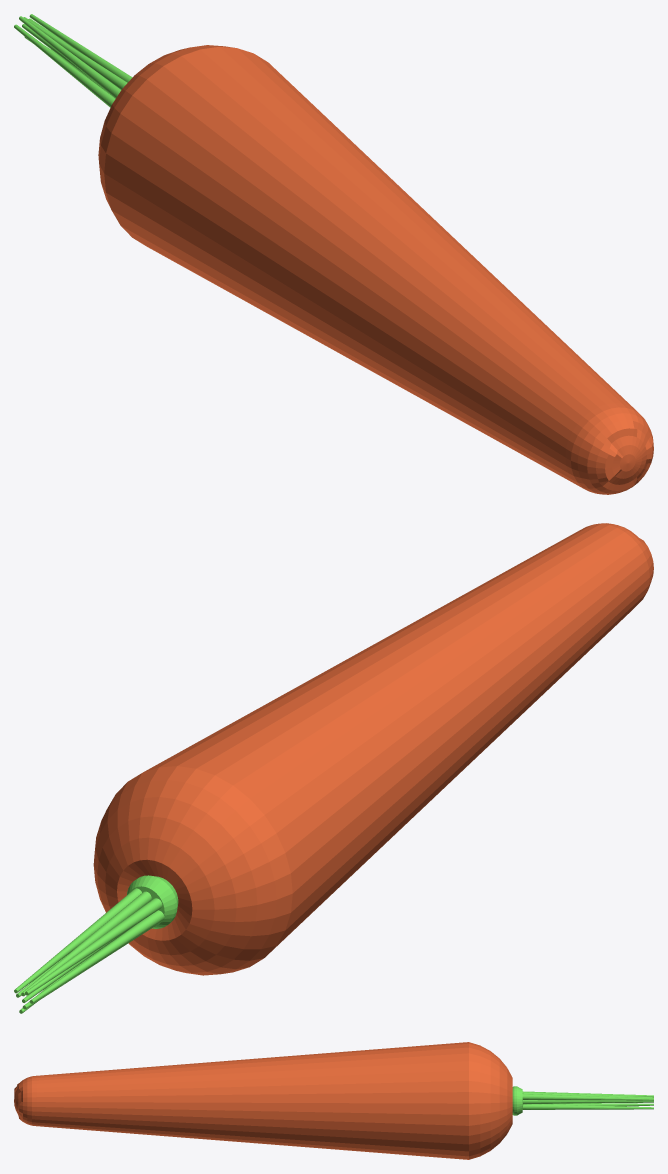
Rendered from carrot.fbx.
3 views of the same model, one above another, from view 1: azimuth 30°, elevation 25°; view 2: azimuth 150°, elevation 25°; view 3: azimuth 270°, elevation 25° (orthographic). The views are drawn at different scales.
Parts seen in each view (by area): view 1: Cylinder.001; view 2: Cylinder.001; view 3: Cylinder.001.
Boxes of the visible parts, x1,y1,x2,y2 form: Cylinder.001: [14, 14, 653, 494]; Cylinder.001: [14, 523, 653, 1013]; Cylinder.001: [14, 1042, 653, 1159].
Bounding box in the file's own units: 91.15 × 91.15 × 494.
